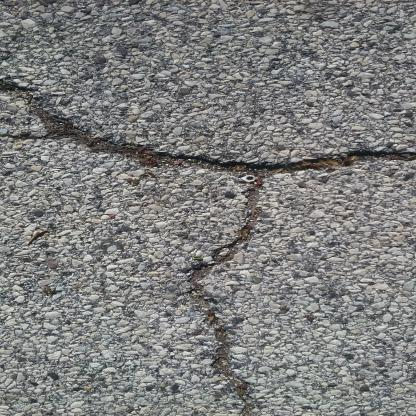Cracks: (1, 75, 416, 181), (175, 170, 286, 416)
